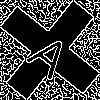A: (25, 25, 80, 81)
